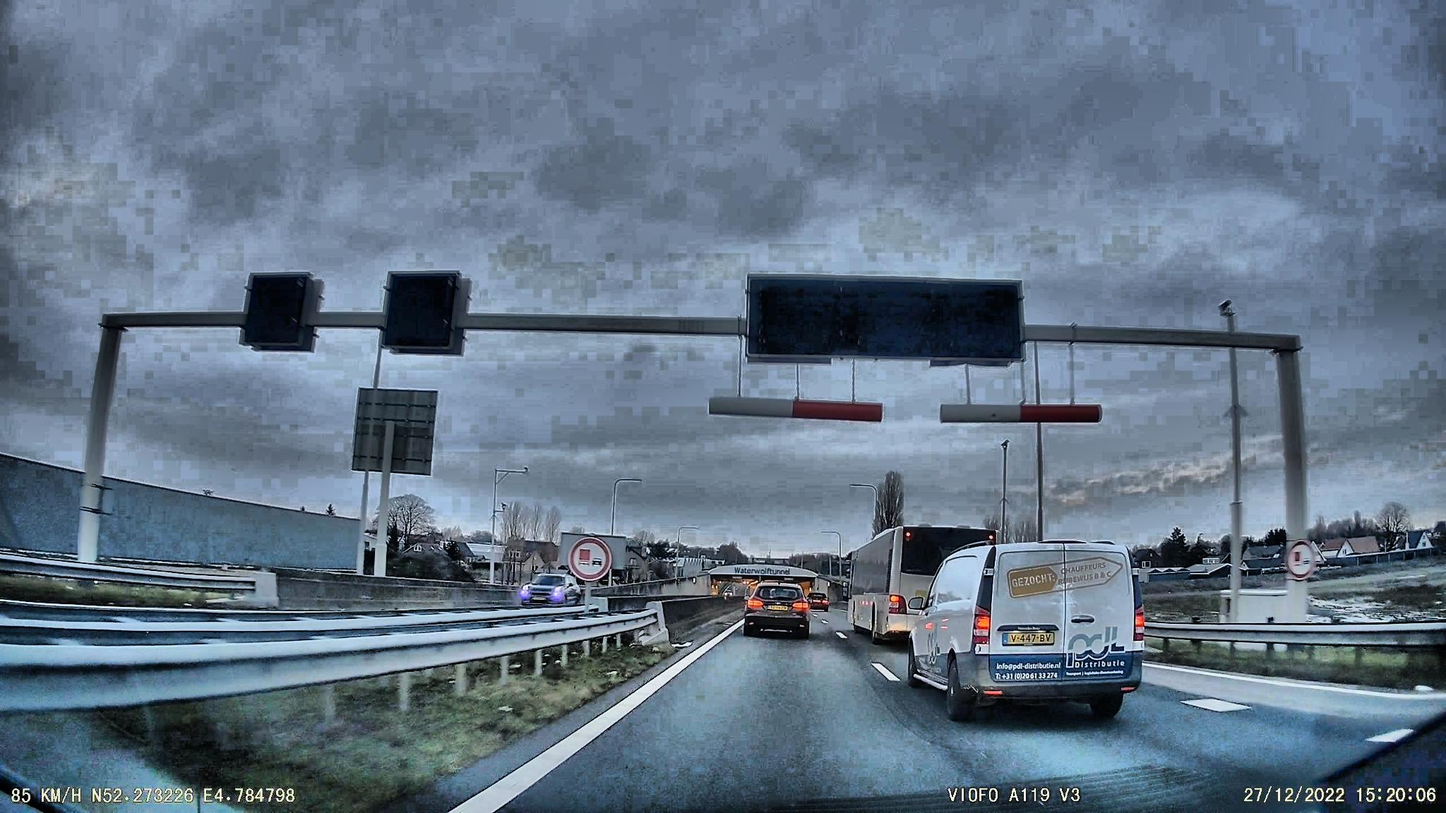Roads: (387, 615, 1446, 813)
